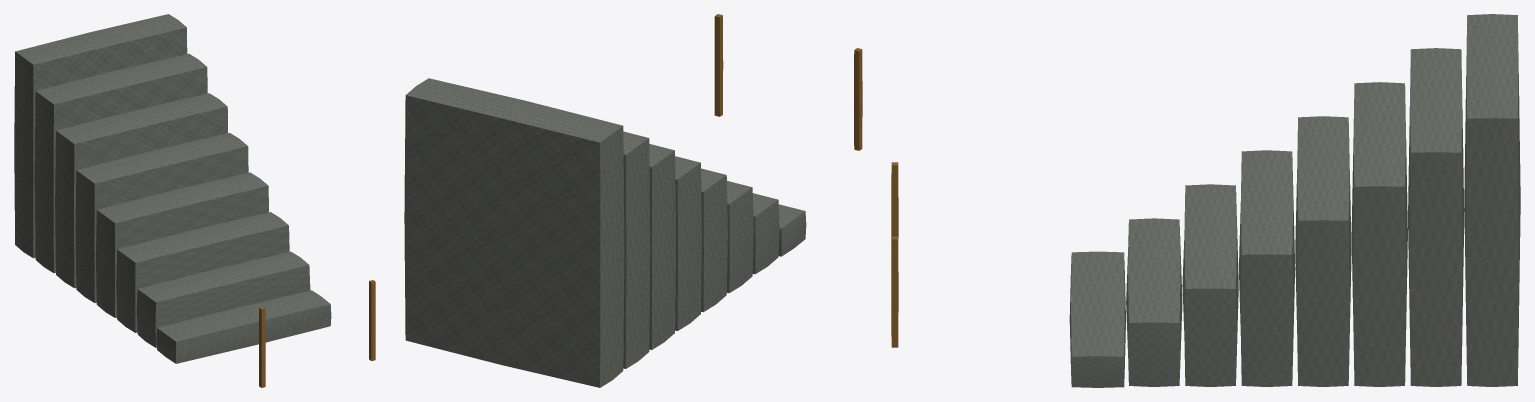
The picture shows the model from 3 angles, left to right: view 1: azimuth 30°, elevation 25°; view 2: azimuth 150°, elevation 25°; view 3: azimuth 270°, elevation 25°; orthographic projection. The views are drawn at different scales.
Parts seen in each view (by area): view 1: stone.7, stone.6, stone.5, stone.4, stone.3, stone.2, stone.1, stone.0, brass.8, brass.9; view 2: stone.7, stone.6, stone.5, stone.4, stone.3, stone.2, stone.1, stone.0, brass.9, brass.8; view 3: stone.7, stone.6, stone.5, stone.4, stone.3, stone.2, stone.1, stone.0, brass.9, brass.8.
Part boxes in pixels (bbox=[...]): stone.7: bbox=[14, 14, 187, 258]; stone.6: bbox=[34, 53, 207, 273]; stone.5: bbox=[55, 93, 227, 288]; stone.4: bbox=[75, 133, 248, 302]; stone.3: bbox=[96, 172, 268, 317]; stone.2: bbox=[116, 212, 289, 332]; stone.1: bbox=[136, 251, 310, 347]; stone.0: bbox=[156, 290, 331, 363]; brass.8: bbox=[259, 307, 265, 387]; brass.9: bbox=[369, 280, 375, 360]; stone.7: bbox=[404, 78, 624, 387]; stone.6: bbox=[623, 131, 650, 368]; stone.5: bbox=[649, 144, 676, 349]; stone.4: bbox=[675, 156, 701, 330]; stone.3: bbox=[701, 168, 727, 312]; stone.2: bbox=[727, 181, 753, 293]; stone.1: bbox=[752, 193, 779, 274]; stone.0: bbox=[778, 204, 806, 256]; brass.9: bbox=[714, 14, 723, 116]; brass.8: bbox=[854, 48, 862, 150]; stone.7: bbox=[1464, 14, 1520, 386]; stone.6: bbox=[1408, 48, 1464, 386]; stone.5: bbox=[1351, 82, 1407, 386]; stone.4: bbox=[1295, 116, 1351, 386]; stone.3: bbox=[1239, 150, 1295, 386]; stone.2: bbox=[1182, 184, 1238, 386]; stone.1: bbox=[1126, 218, 1182, 386]; stone.0: bbox=[1069, 251, 1125, 387]; brass.9: bbox=[891, 236, 898, 347]; brass.8: bbox=[891, 162, 898, 247].
Size of the model in its own units: 1.2 by 1.44 by 3.01.
Materials: 2 (2 with a texture image).
